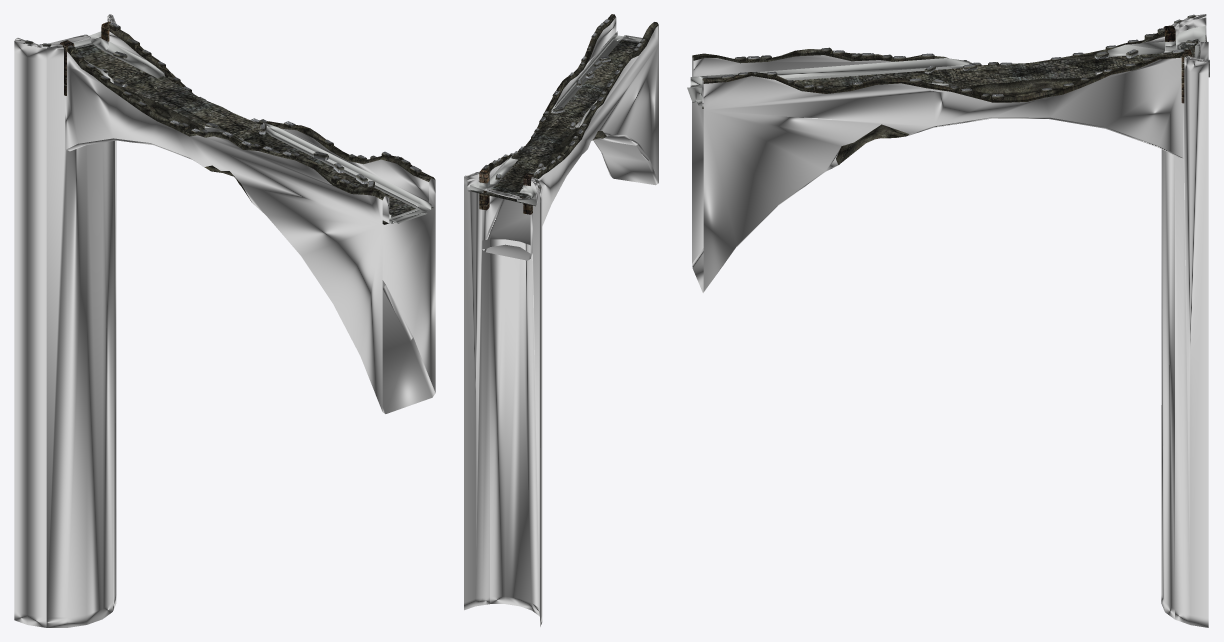
3 views of the same model, side by side, from view 1: azimuth 30°, elevation 25°; view 2: azimuth 150°, elevation 25°; view 3: azimuth 270°, elevation 25° (orthographic). The views are drawn at different scales.
Visible parts, largest first — view 1: mesh8, mesh4, mesh6, mesh7, mesh0, mesh1; view 2: mesh8, mesh4, mesh6, mesh7, mesh0, mesh3, mesh1; view 3: mesh8, mesh6, mesh4, mesh7, mesh0.
Boxes of the visible parts, left/top/right/bottom form: mesh8: left=14, top=14, right=435, bottom=627; mesh4: left=76, top=44, right=433, bottom=224; mesh6: left=67, top=29, right=435, bottom=201; mesh7: left=73, top=31, right=431, bottom=223; mesh0: left=67, top=22, right=421, bottom=189; mesh1: left=24, top=40, right=374, bottom=188; mesh8: left=464, top=17, right=658, bottom=626; mesh4: left=468, top=40, right=638, bottom=206; mesh6: left=488, top=14, right=658, bottom=178; mesh7: left=470, top=31, right=642, bottom=205; mesh0: left=482, top=19, right=645, bottom=178; mesh3: left=479, top=169, right=533, bottom=214; mesh1: left=495, top=56, right=610, bottom=198; mesh8: left=692, top=14, right=1209, bottom=627; mesh6: left=692, top=33, right=1181, bottom=164; mesh4: left=702, top=35, right=1206, bottom=108; mesh7: left=687, top=26, right=1205, bottom=105; mesh0: left=721, top=28, right=1185, bottom=100.
Bounding box in the file's own units: 5.46 × 18.97 × 15.47.
